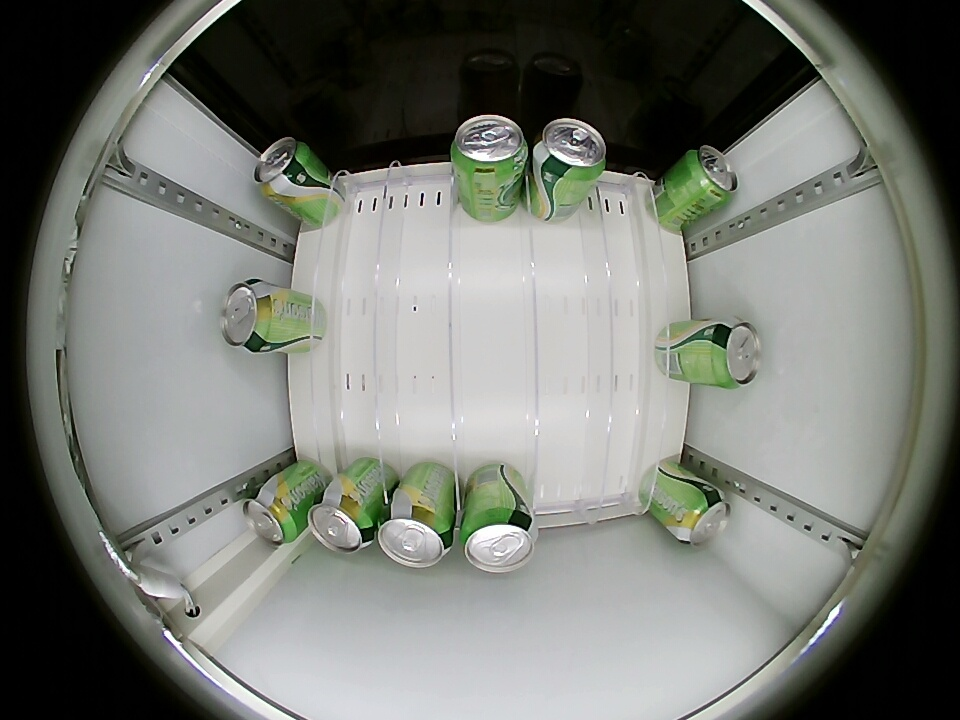quchenshixiangcao: (377, 503, 454, 568), (461, 507, 536, 573), (451, 116, 528, 179), (532, 118, 607, 181), (219, 279, 277, 354), (308, 491, 376, 554), (705, 317, 762, 388), (252, 137, 313, 201), (242, 484, 300, 546), (681, 145, 739, 206), (676, 485, 730, 545)
